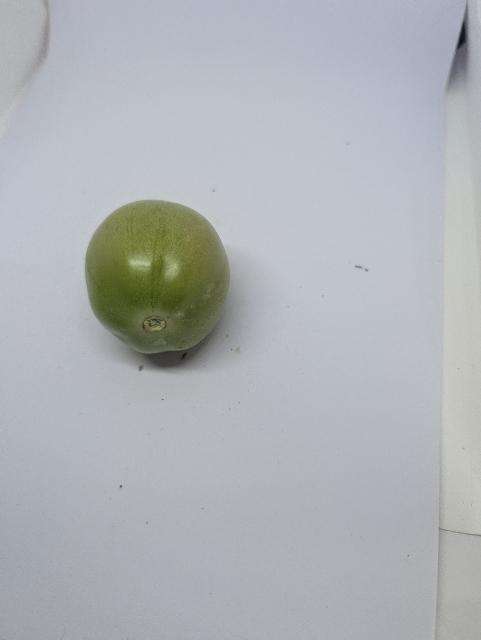green: (83, 197, 231, 358)
